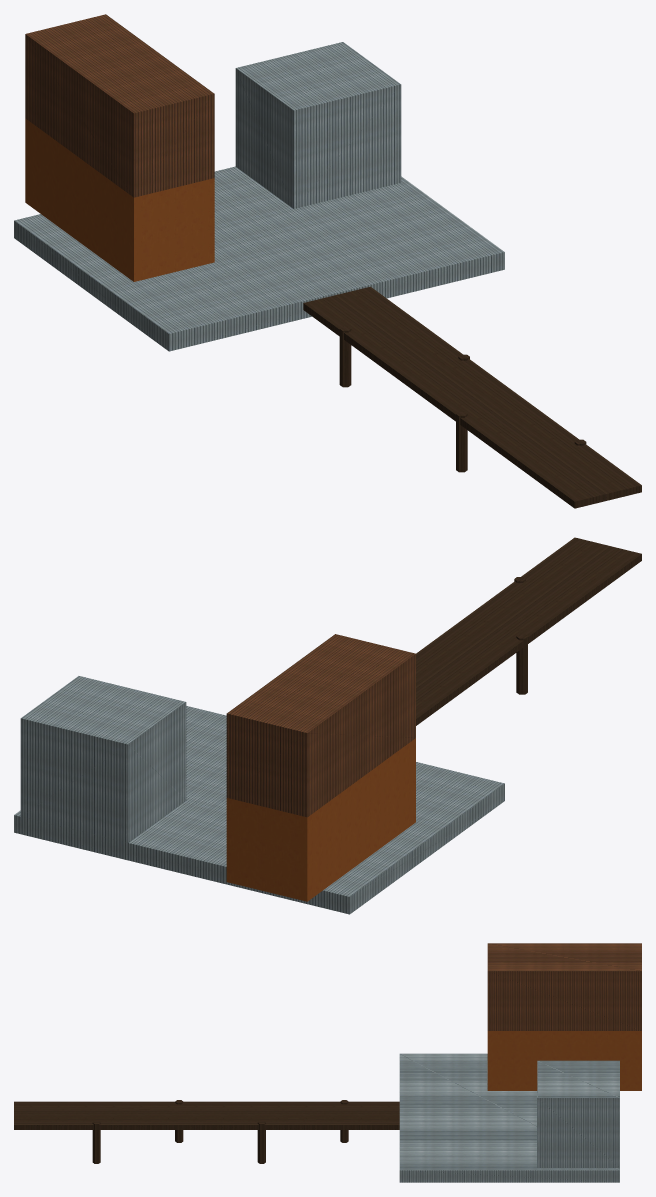
The model's file is sunken_lab_01.glb.
3 renders of one model, top to bottom at view 1: azimuth 30°, elevation 25°; view 2: azimuth 150°, elevation 25°; view 3: azimuth 270°, elevation 25°, orthographic. The views are drawn at different scales.
Parts seen in each view (by area): view 1: sunken_lab_01; view 2: sunken_lab_01; view 3: sunken_lab_01.
Boxes of the visible parts, x1,y1,x2,y2 form: sunken_lab_01: (14,14,641,508); sunken_lab_01: (14,537,641,914); sunken_lab_01: (14,943,641,1182).
Size of the model in its own units: 10 by 6.4 by 22.8.
Materials: 4 (4 with a texture image).
